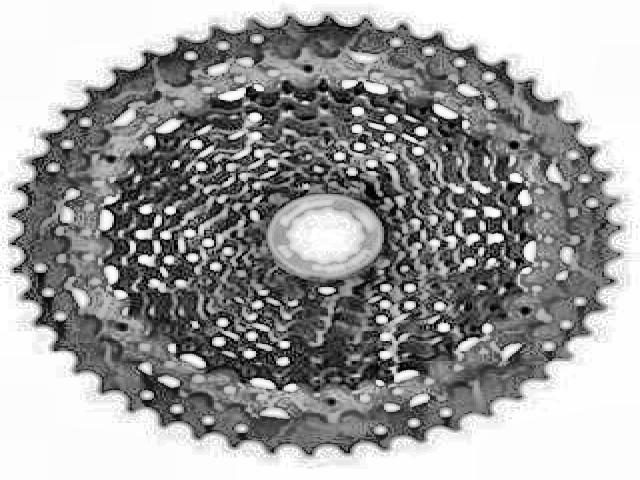cassette: (11, 11, 626, 457)
